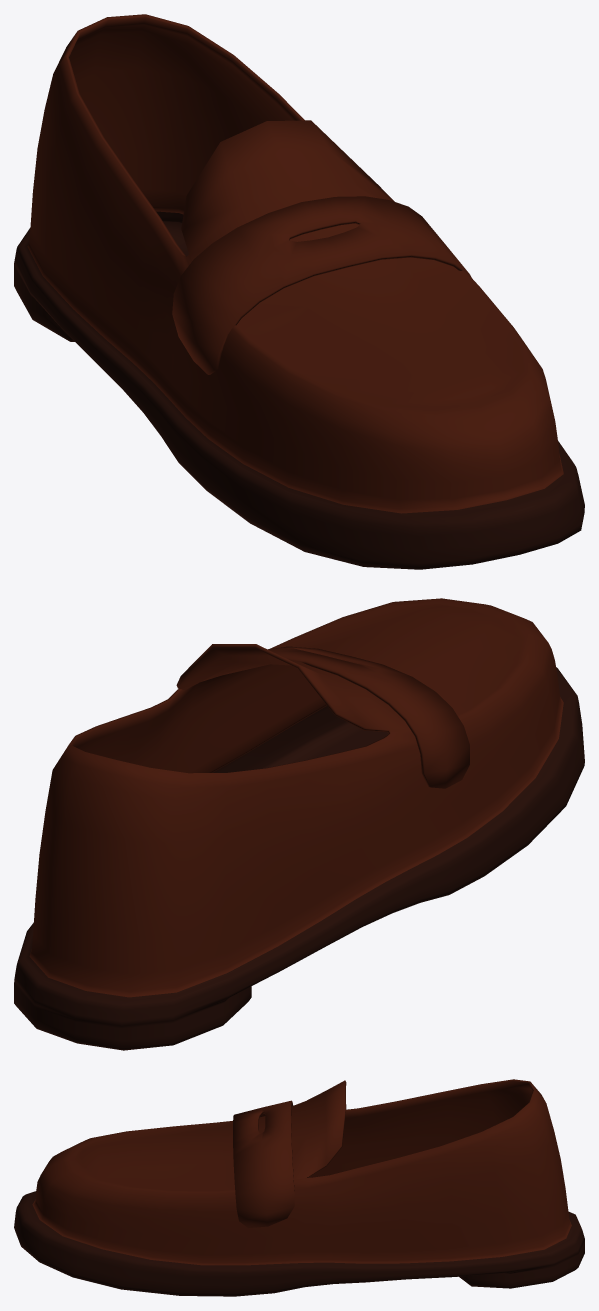
File: ローファー 左.fbx
3 views of the same model, one above another, from view 1: azimuth 30°, elevation 25°; view 2: azimuth 150°, elevation 25°; view 3: azimuth 270°, elevation 25° (orthographic). The views are drawn at different scales.
Parts seen in each view (by area): view 1: ローファー 左; view 2: ローファー 左; view 3: ローファー 左.
Part boxes in pixels (x1,y1,x2,y2): ローファー 左: (14, 14, 584, 569); ローファー 左: (14, 598, 584, 1050); ローファー 左: (14, 1079, 584, 1296).
Bounding box in the file's own units: 0.0891 × 0.0793 × 0.2407.
